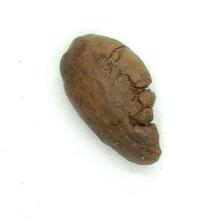NG: (128, 58, 162, 158)
